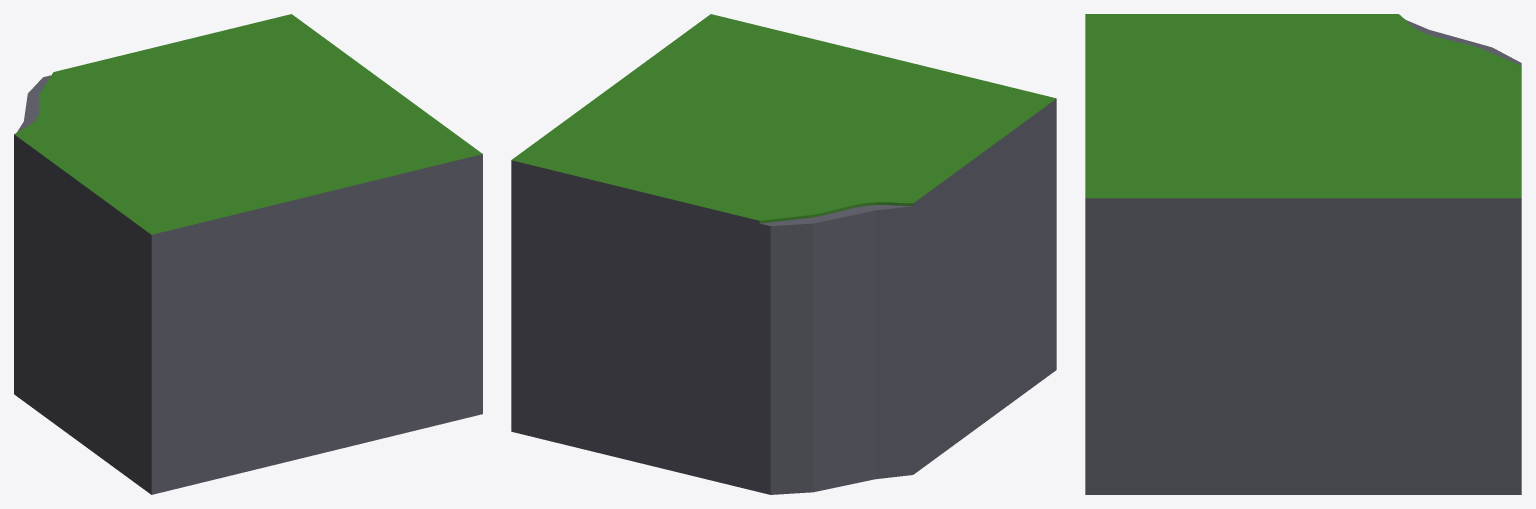
Rendered from Wedge2.fbx.
3 renders of one model, left to right at view 1: azimuth 30°, elevation 25°; view 2: azimuth 150°, elevation 25°; view 3: azimuth 270°, elevation 25°, orthographic. The views are drawn at different scales.
Visible parts, largest first — view 1: Plane.029; view 2: Plane.029; view 3: Plane.029.
Boxes of the visible parts, left/top/right/bottom form: Plane.029: left=14, top=14, right=482, bottom=494; Plane.029: left=511, top=14, right=1056, bottom=494; Plane.029: left=1085, top=14, right=1521, bottom=494.
Bounding box in the file's own units: 100 × 75 × 100.
